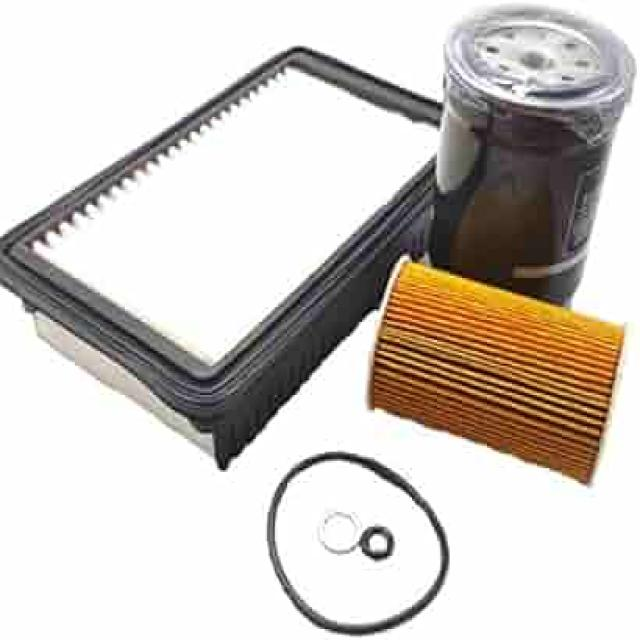air_filter: (0, 41, 430, 472)
oil_filter: (363, 254, 633, 489), (434, 2, 636, 270)
